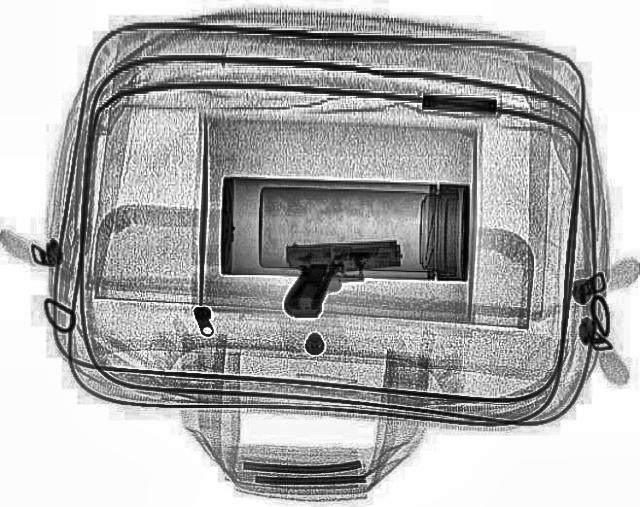Gun: (279, 239, 405, 317)
